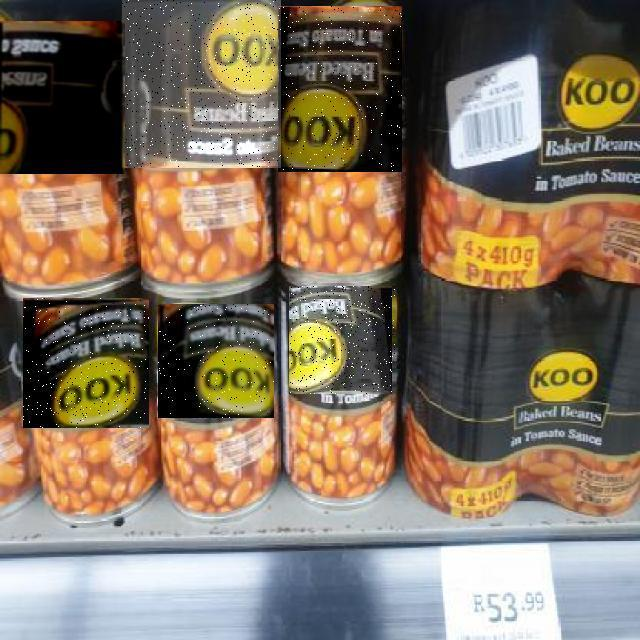Beans: (122, 0, 281, 168), (278, 6, 402, 172), (0, 21, 125, 174), (23, 298, 149, 428), (158, 305, 274, 419), (290, 286, 396, 394)
